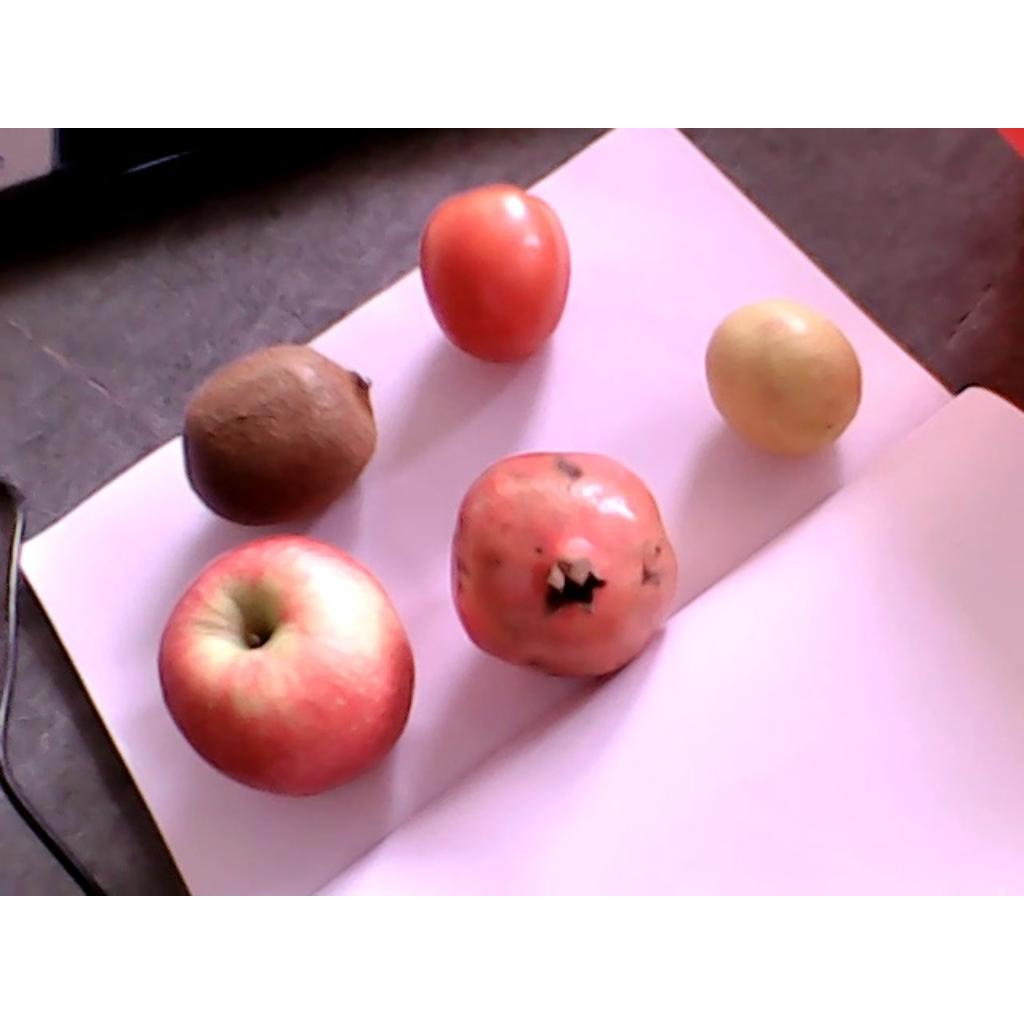apple: (159, 535, 414, 796)
kiwi: (183, 344, 376, 526)
lemon: (706, 301, 860, 453)
pomegranate: (452, 451, 680, 680)
tomato: (419, 183, 569, 363)
